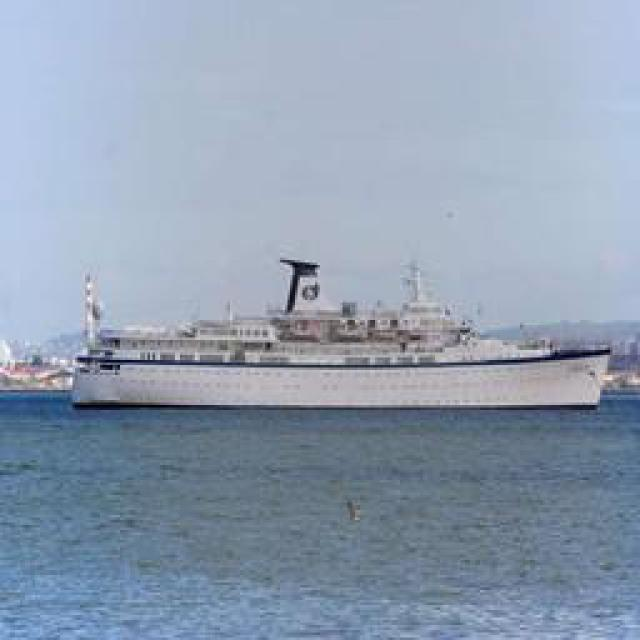Ship: (67, 254, 615, 417)
